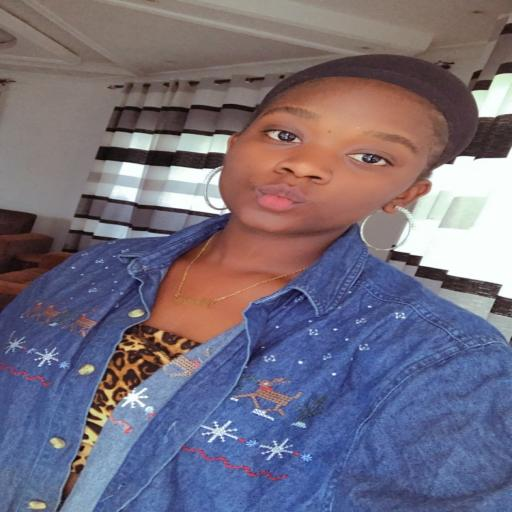LAURENE: (218, 41, 470, 255)
